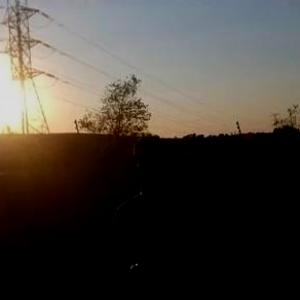follow: (109, 127, 212, 299)
